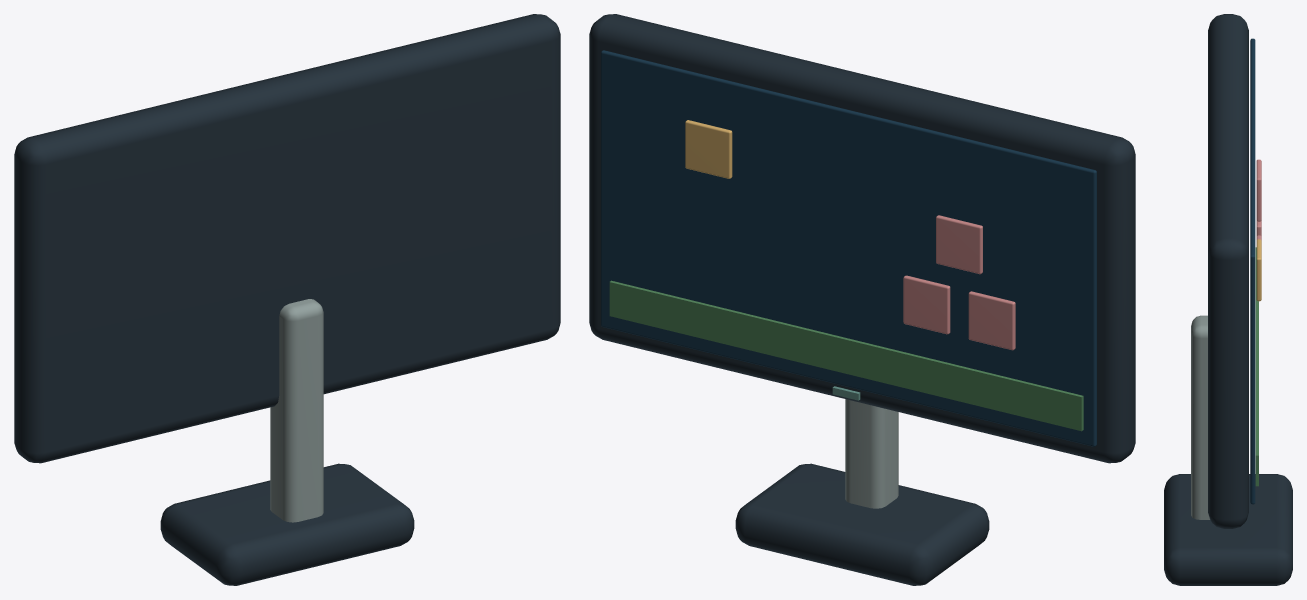
File: GamingMonitor.fbx
3 renders of one model, left to right at view 1: azimuth 30°, elevation 25°; view 2: azimuth 150°, elevation 25°; view 3: azimuth 270°, elevation 25°, orthographic. The views are drawn at different scales.
Visible parts, largest first — view 1: GamingMonitor; view 2: GamingMonitor; view 3: GamingMonitor.
Part boxes in pixels (x1,y1,x2,y2): GamingMonitor: (14, 14, 560, 585); GamingMonitor: (589, 14, 1135, 585); GamingMonitor: (1164, 14, 1292, 585).
Size of the model in its own units: 1.65 by 1.37 by 0.38.
Materials: 1 (1 with a texture image).
